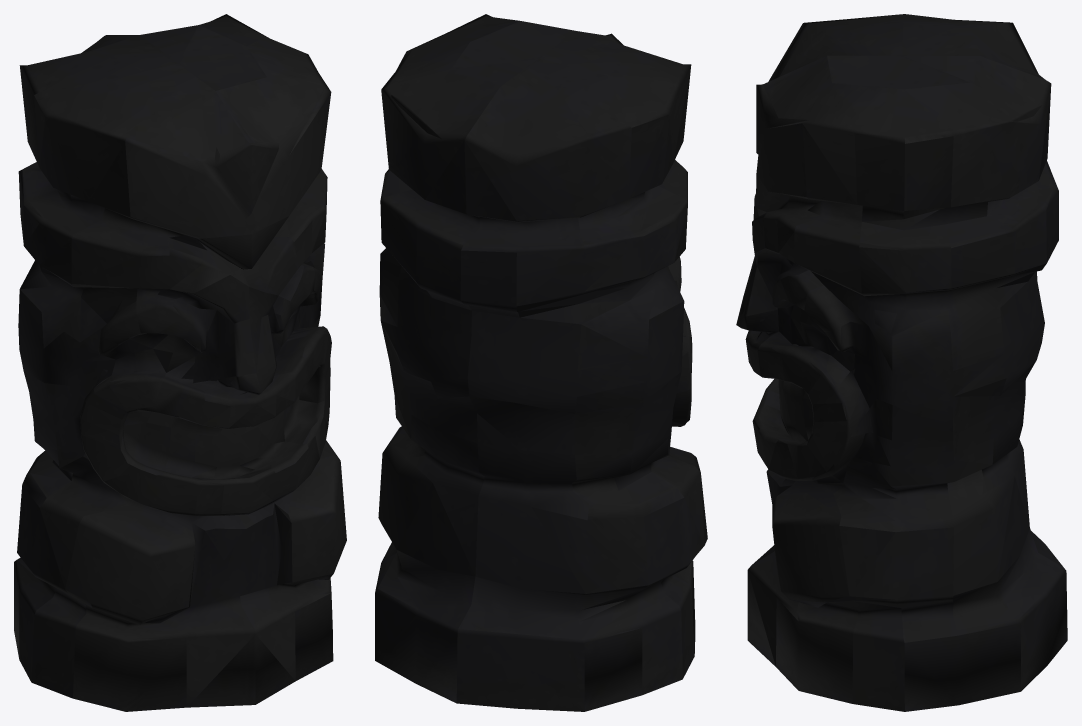
Rendered from art_tiki_plastic.glb.
The picture shows the model from 3 angles, left to right: view 1: azimuth 30°, elevation 25°; view 2: azimuth 150°, elevation 25°; view 3: azimuth 270°, elevation 25°; orthographic projection.
Bounding box in the file's own units: 0.5293 × 1 × 0.5137.
1 material, 1 textured.
